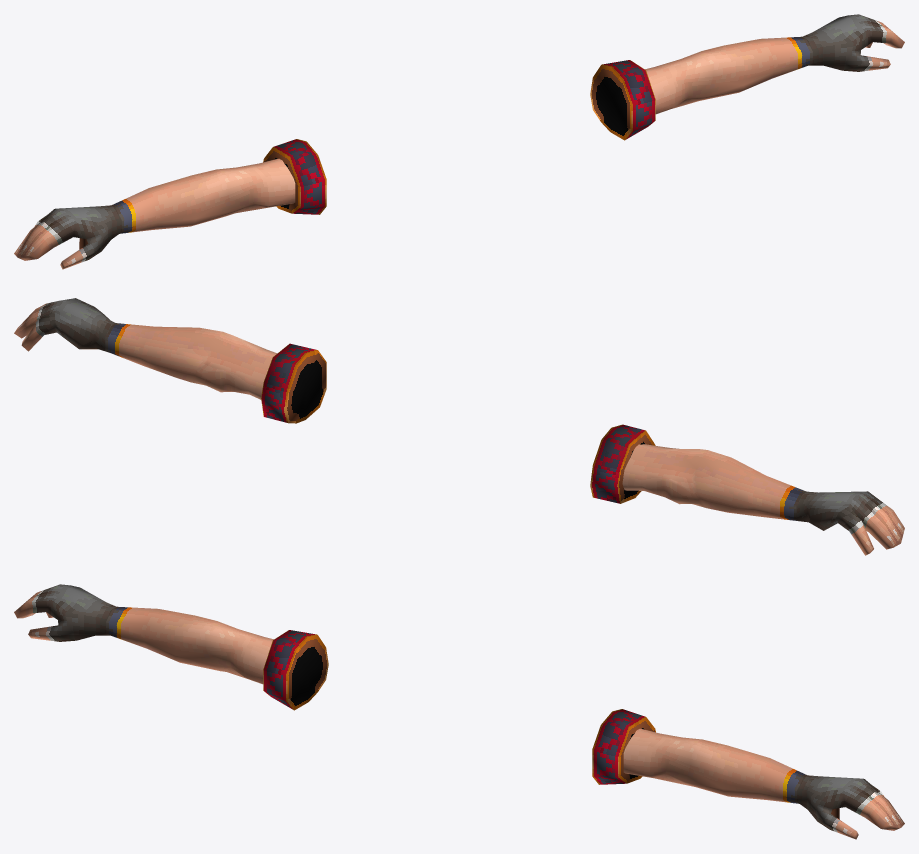
File: f_arm216.glb
3 renders of one model, top to bottom at view 1: azimuth 30°, elevation 25°; view 2: azimuth 150°, elevation 25°; view 3: azimuth 330°, elevation 25°, orthographic.
Bounding box in the file's own units: 173 × 12.34 × 13.99.
1 material, 1 textured.
